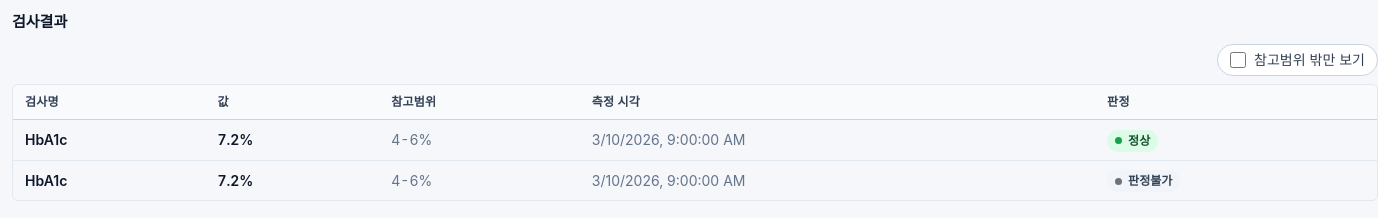
LabResultsTableSection out-of-range filter › shows a filter-specific empty message when no result is out of range, distinct from the no-data message
The image size is (1378, 218).
Click the checkbox labelled "참고범위 밖만 보기" at (1238, 60), box [1230, 52, 1246, 68]
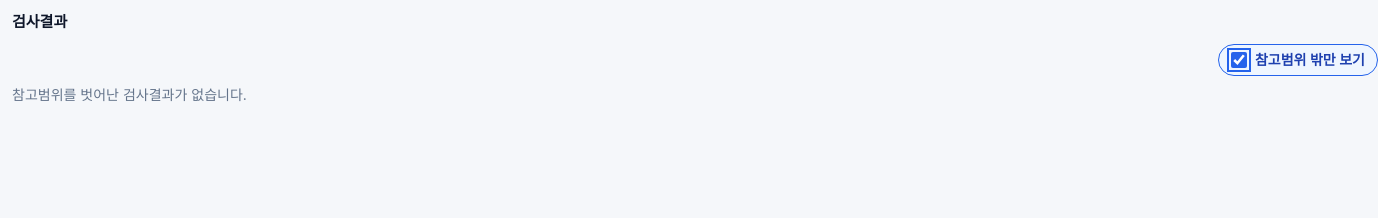
Expected: the text "참고범위를 벗어난 검사결과가 없습니다." is shown, [12, 86, 247, 102]
